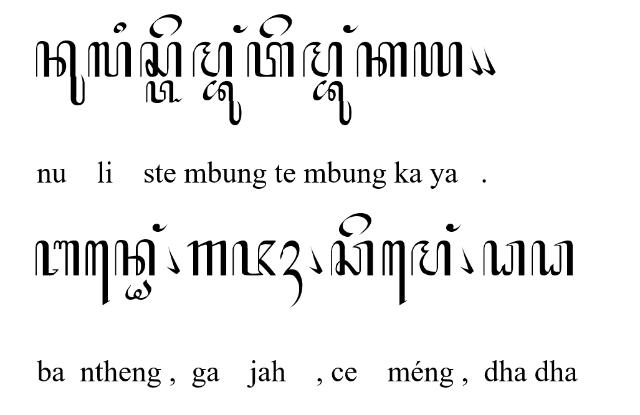_bu: (202, 80, 242, 126), (312, 80, 352, 126)
_h1: (280, 239, 304, 308)
_t: (145, 80, 183, 102)
_th: (124, 278, 152, 300)
b: (34, 239, 80, 276)
c: (330, 239, 374, 276)
dh: (482, 239, 526, 276), (532, 240, 574, 276)
e: (381, 240, 407, 306), (338, 212, 372, 238), (149, 14, 183, 38), (258, 14, 292, 38)
e1: (84, 239, 110, 306)
g: (186, 240, 228, 276)
i: (114, 23, 126, 35)
j: (231, 240, 277, 276)
k: (357, 41, 408, 77)
kom: (468, 47, 484, 77), (164, 245, 180, 275), (458, 245, 474, 275), (482, 46, 496, 76), (310, 246, 322, 274)
l: (86, 40, 132, 78)
m: (192, 40, 232, 78), (411, 240, 451, 278), (304, 41, 344, 77)
n: (114, 238, 156, 276)
ng: (444, 222, 462, 232), (232, 24, 248, 34), (342, 24, 358, 34), (152, 222, 168, 232)
nu: (35, 39, 85, 105)
s: (140, 40, 182, 78)
t: (247, 42, 296, 78)
y: (413, 40, 462, 78)
